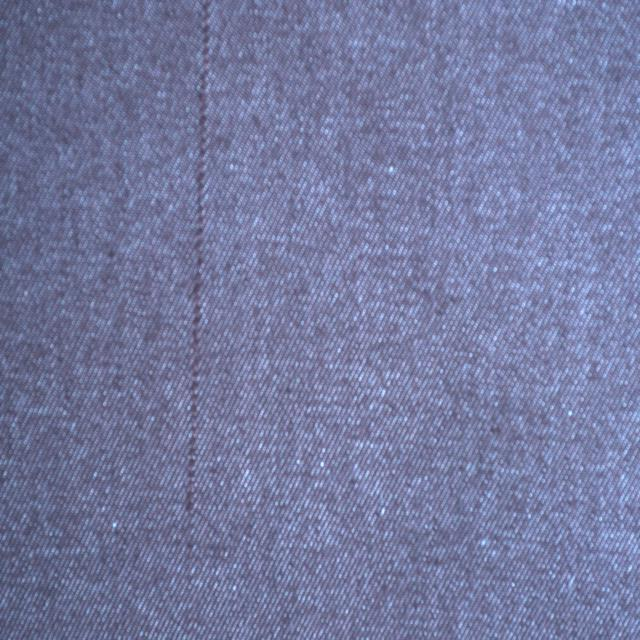Line: (184, 0, 210, 640)
